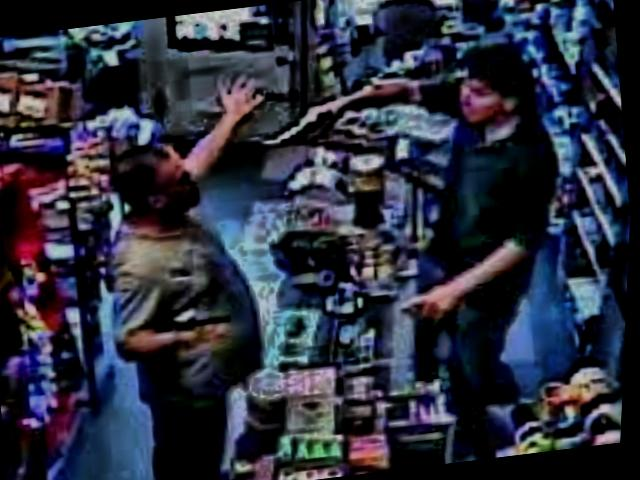pistol: (259, 102, 331, 155)
